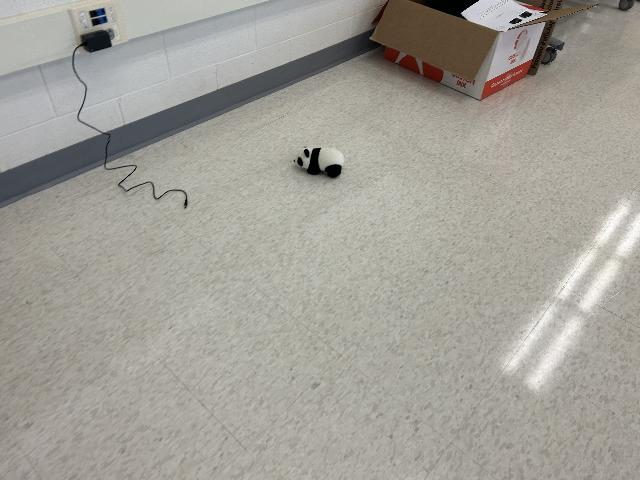panda_plushie: (294, 146, 344, 178)
